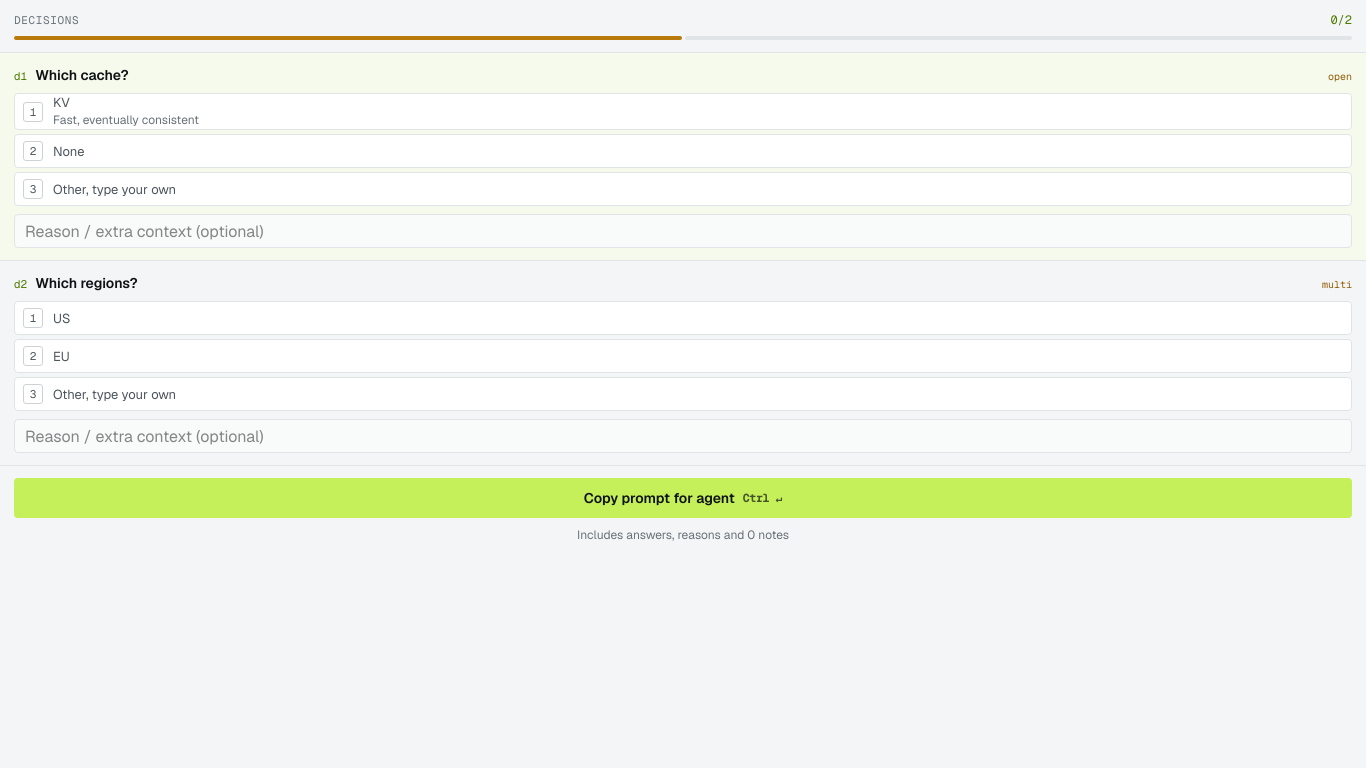
Test: DecisionDock › single-select: an agent option after Other closes the field; multi-select keeps both
Click the radio button labelled "3 Other, type your own" at (115, 189), box [14, 172, 1352, 206]
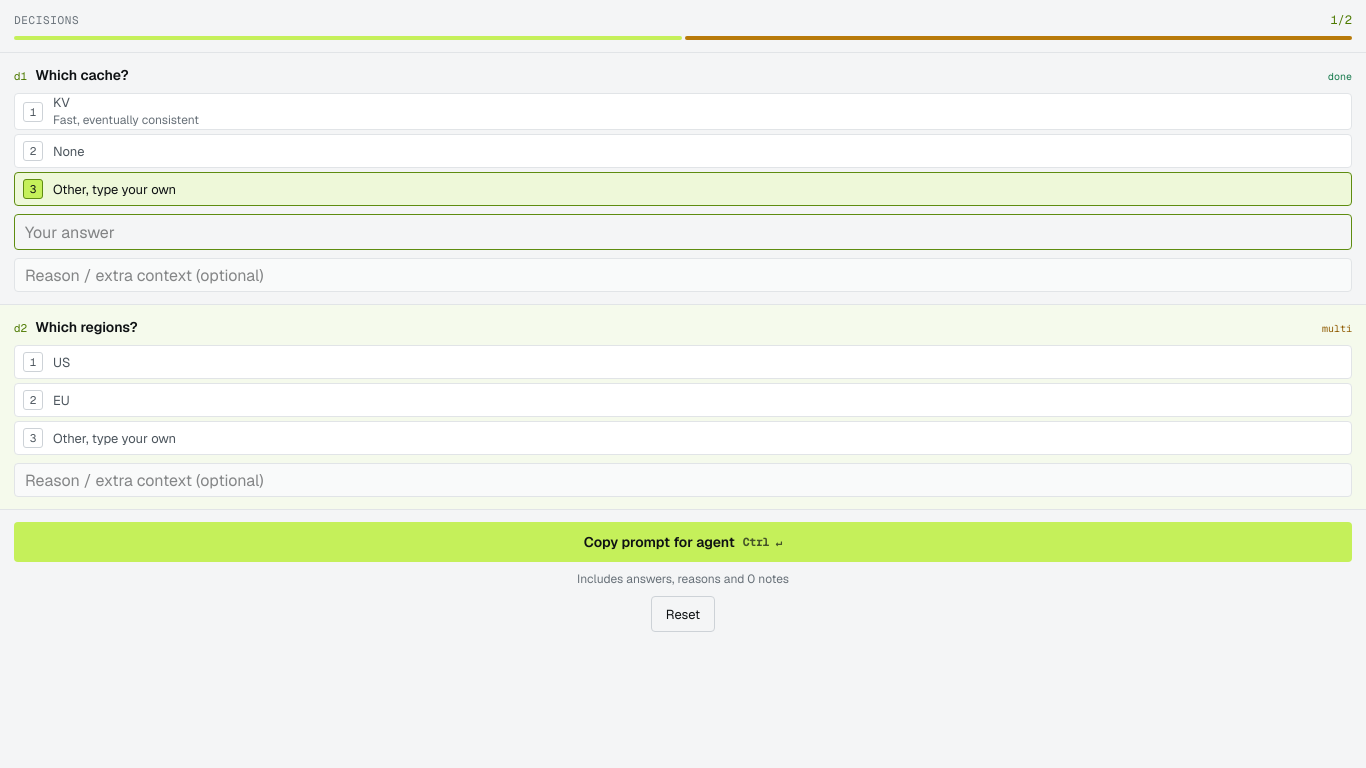
Click the radio button labelled "None" at (69, 151), box [14, 134, 1352, 168]
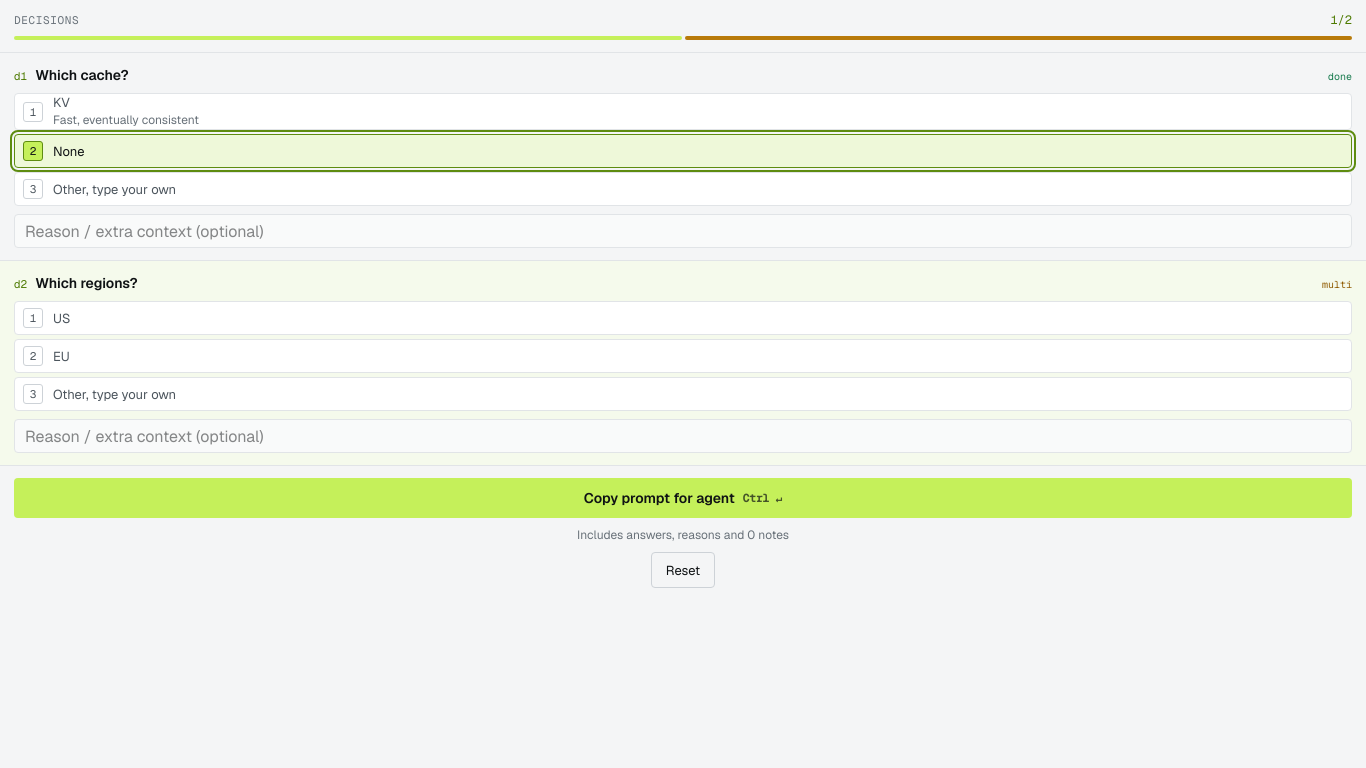
Click the checkbox labelled "US" at (33, 318), box [14, 301, 1352, 335]
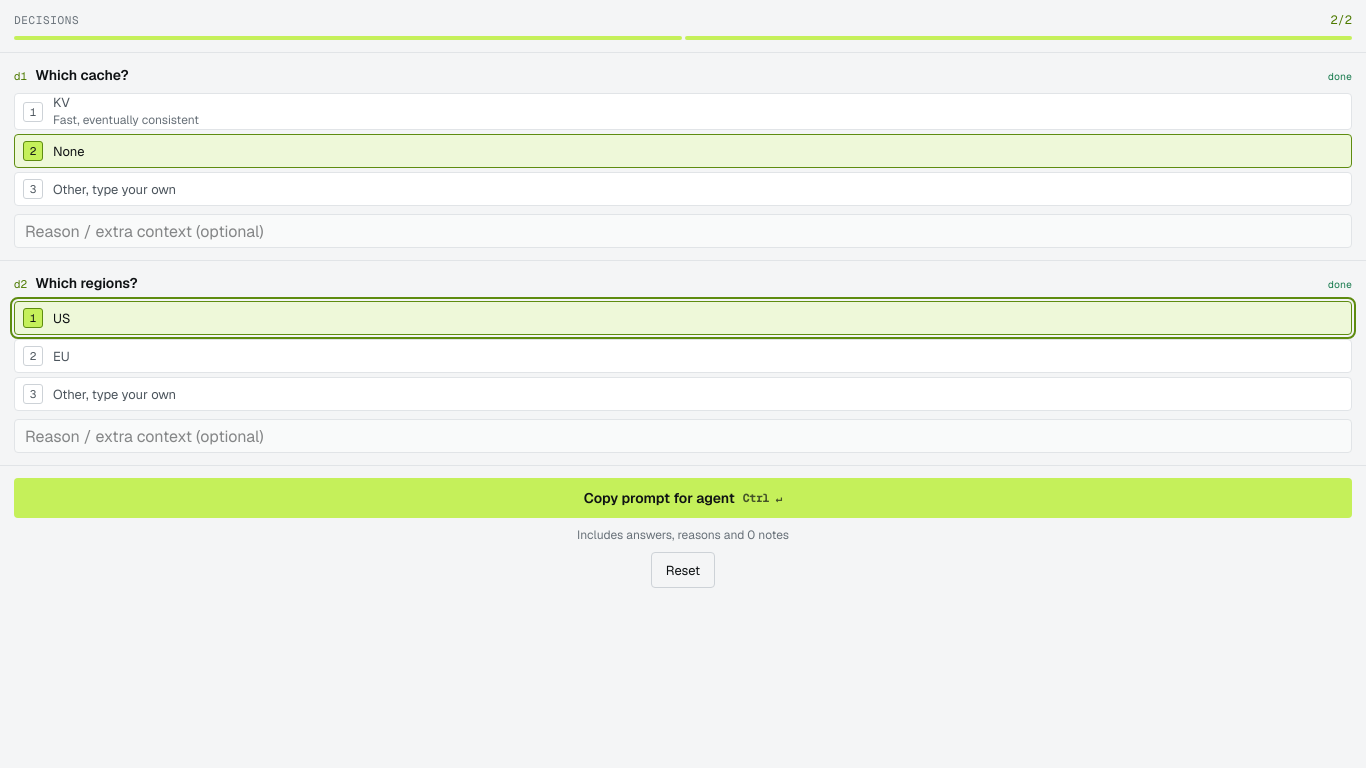
Click the checkbox labelled "Other, type your own" at (115, 394), box [14, 377, 1352, 411]
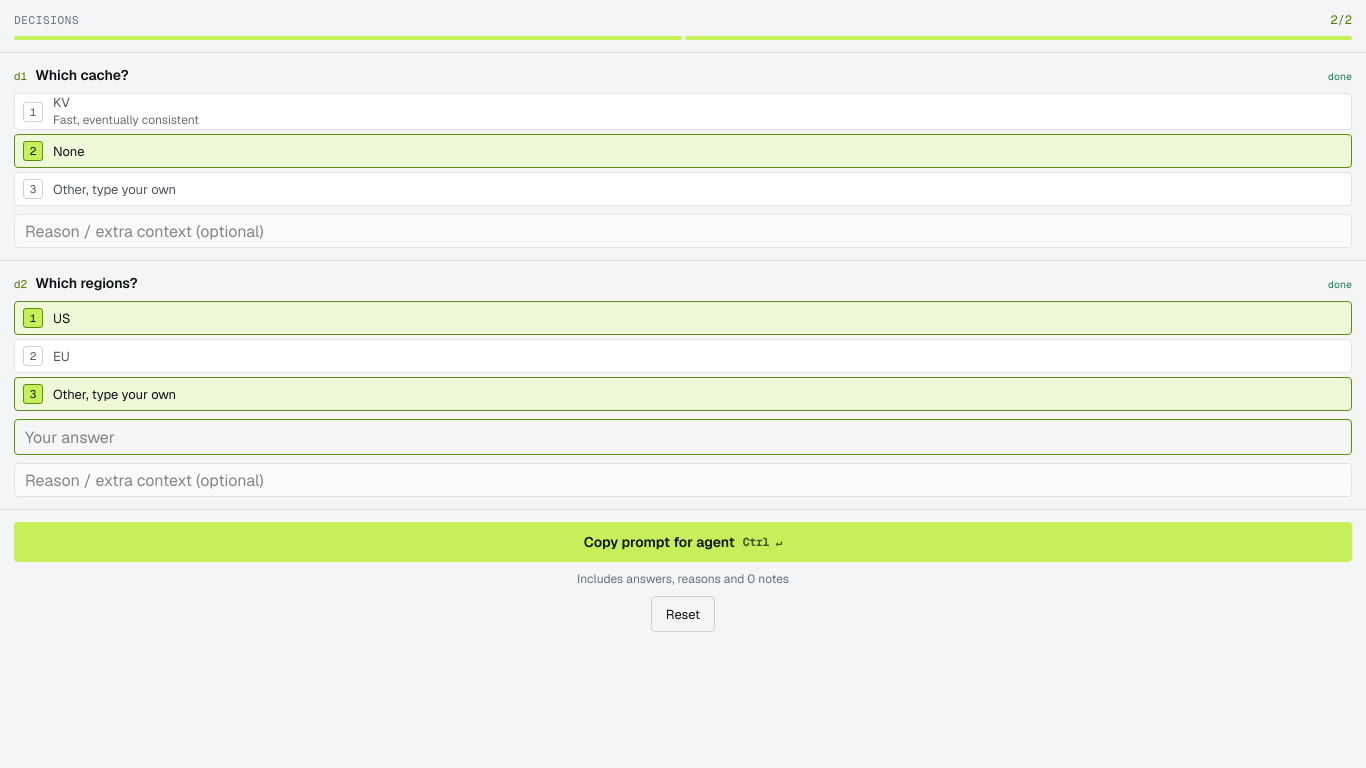
Now the field named "d2 Your answer" is shown, box [14, 419, 1352, 455]
